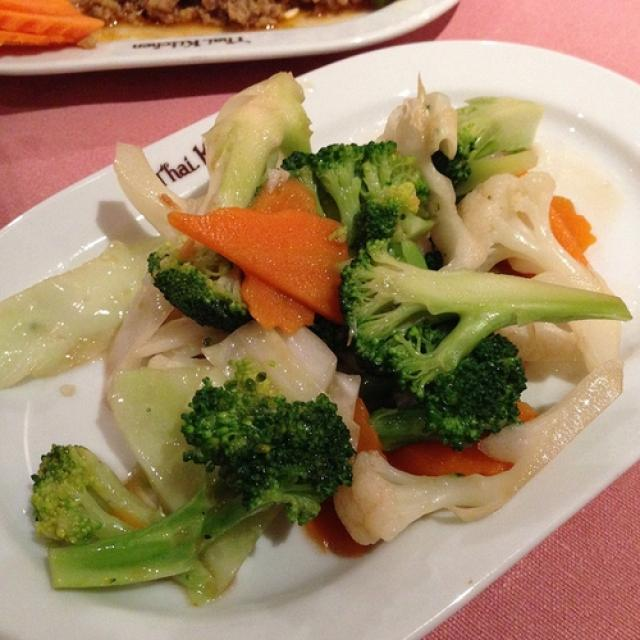蔬菜料理: (19, 50, 606, 616)
